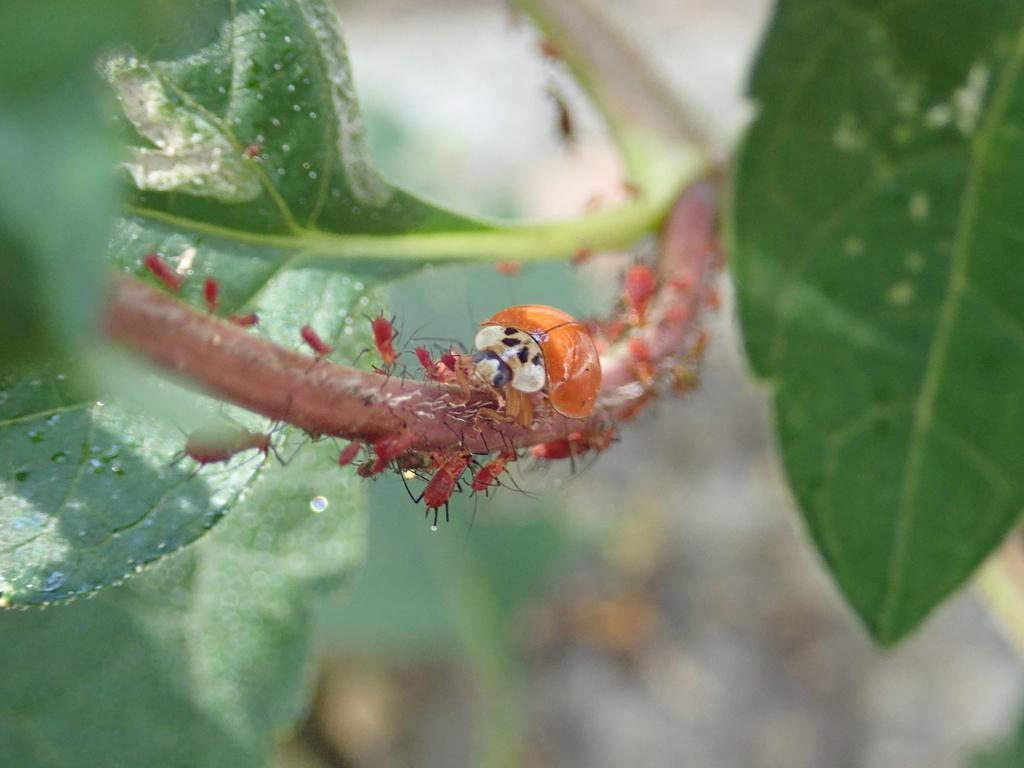ladybug: (453, 301, 607, 435)
